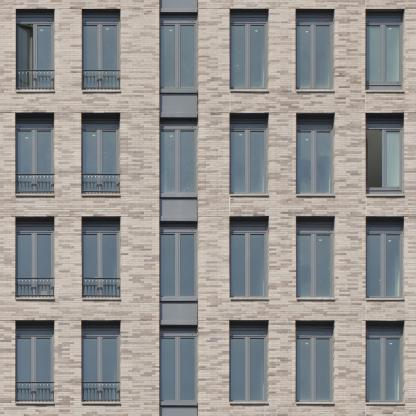Building Outline: (0, 0, 416, 416)
Cornice: (160, 320, 198, 324), (160, 8, 198, 12), (160, 113, 198, 117), (160, 217, 198, 221)
Facade: (0, 0, 415, 415)
Floor: (0, 310, 416, 405), (0, 102, 416, 197), (0, 206, 416, 301), (0, 0, 416, 93)
Floor Slab: (0, 405, 416, 414), (0, 197, 416, 206), (0, 301, 416, 310), (0, 93, 416, 101)
Sill: (160, 88, 198, 93), (160, 193, 198, 198), (160, 401, 198, 405), (160, 297, 198, 301), (366, 402, 404, 404), (366, 194, 404, 196), (366, 298, 404, 300), (366, 90, 404, 92), (82, 402, 120, 404), (16, 402, 54, 404), (82, 194, 120, 196), (16, 194, 54, 196), (82, 297, 120, 299), (16, 298, 54, 300), (82, 90, 120, 92), (16, 90, 54, 92), (296, 402, 334, 404), (230, 402, 268, 404), (297, 194, 335, 196), (230, 194, 268, 196), (296, 297, 334, 299), (230, 298, 268, 300), (296, 90, 334, 92), (230, 90, 268, 92)
Window: (366, 24, 404, 90), (16, 24, 54, 90), (296, 24, 334, 90), (230, 24, 268, 90), (82, 24, 120, 90), (366, 337, 404, 402), (366, 129, 404, 194), (366, 233, 404, 298), (16, 337, 54, 402), (16, 129, 54, 194), (16, 233, 54, 298), (230, 337, 268, 402), (230, 129, 268, 194), (230, 233, 268, 298), (160, 336, 198, 401), (160, 24, 198, 89), (160, 128, 198, 193), (160, 232, 198, 297), (82, 338, 120, 402), (82, 130, 120, 194), (82, 233, 120, 297), (296, 338, 334, 402), (297, 130, 335, 194), (296, 233, 334, 297), (366, 323, 404, 334), (366, 11, 404, 22), (82, 323, 120, 334), (16, 323, 54, 334), (16, 11, 54, 22), (82, 219, 120, 230), (296, 323, 334, 334), (230, 323, 268, 334), (230, 11, 268, 22), (296, 219, 334, 230), (366, 117, 404, 127), (366, 220, 404, 230), (82, 117, 120, 127), (16, 117, 54, 127), (16, 220, 54, 230), (296, 11, 334, 21), (297, 117, 335, 127), (230, 117, 268, 127), (230, 220, 268, 230), (82, 11, 120, 21), (160, 325, 198, 334), (160, 12, 198, 21), (160, 117, 198, 126), (160, 221, 198, 230)
